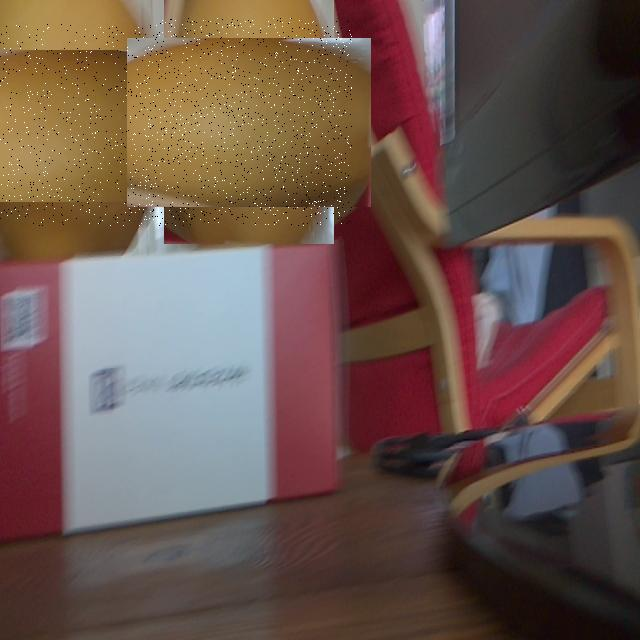pear: (146, 18, 352, 226), (0, 24, 177, 226)
